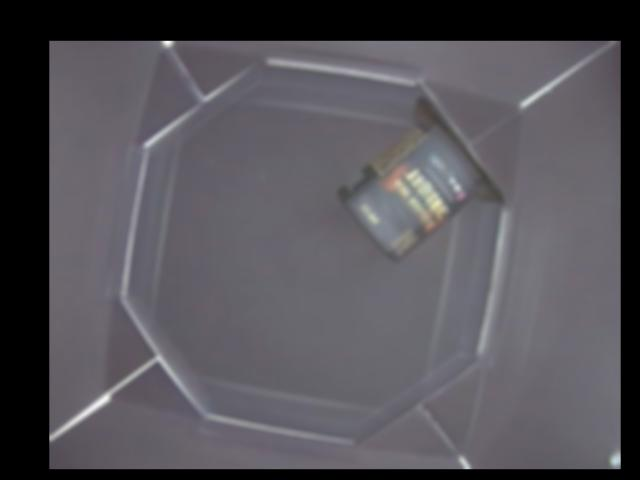Cup: (337, 97, 506, 260)
